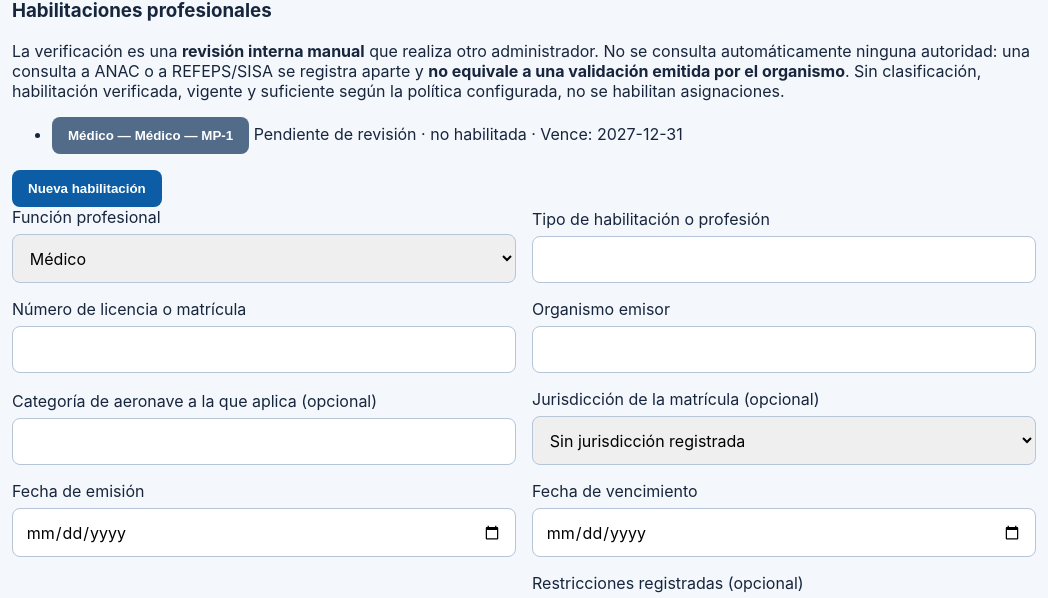
Test: a rejected decision shows the backend error and never announces success
Click the button "Médico — Médico — MP-1". click: coordinates (151, 135)
box: [52,117,249,154]
(page scrolled)
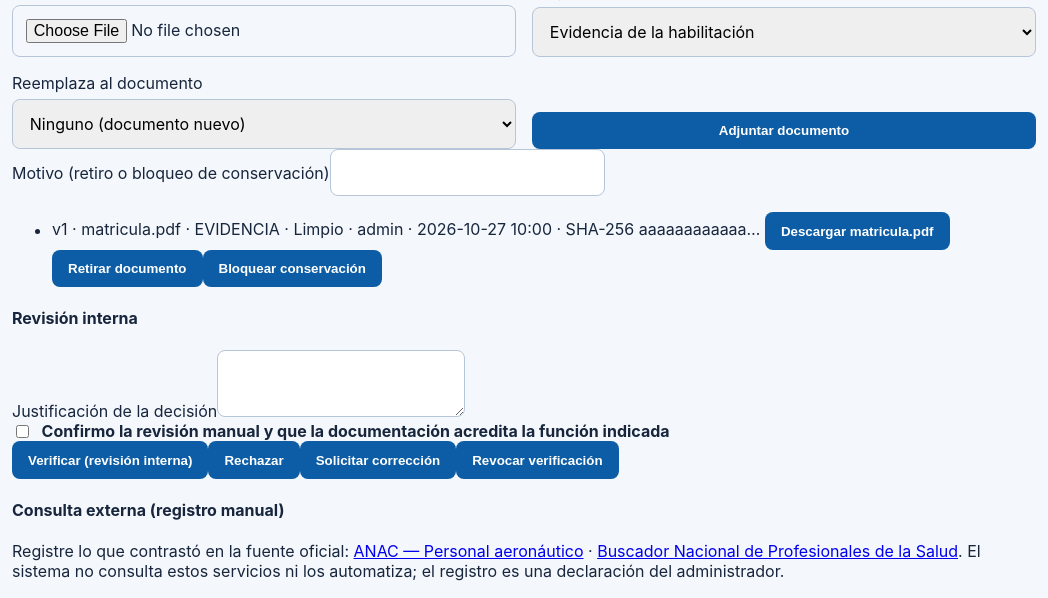
Type "ok" into the text box labelled "Justificación de la decisión". click: coordinates (341, 384)
box: [217,350,465,417]
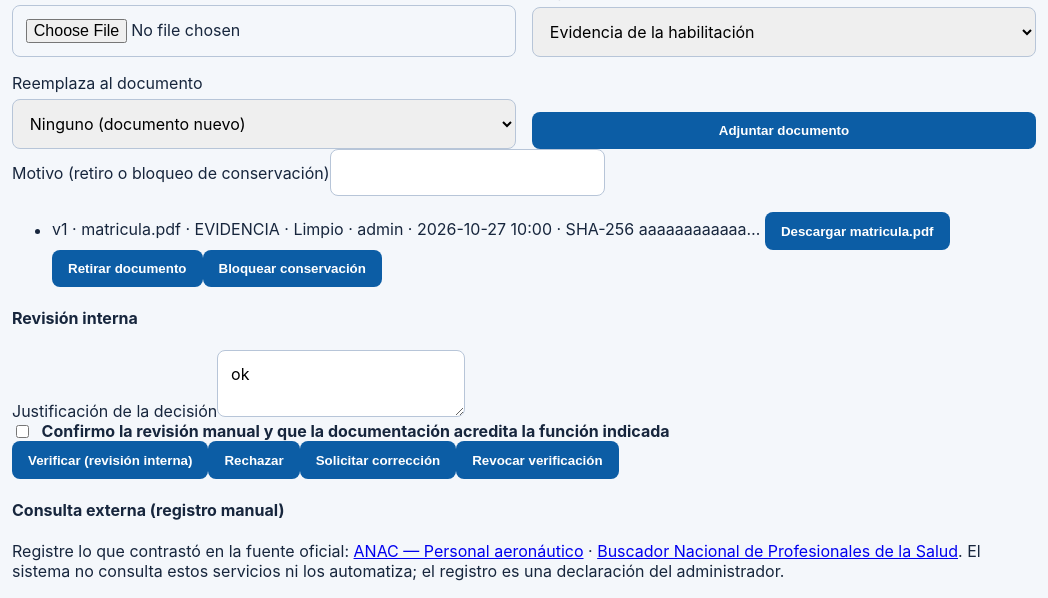
Click the checkbox labelled "Confirmo la revisión manual". click: coordinates (22, 431)
box: [16,425,29,438]
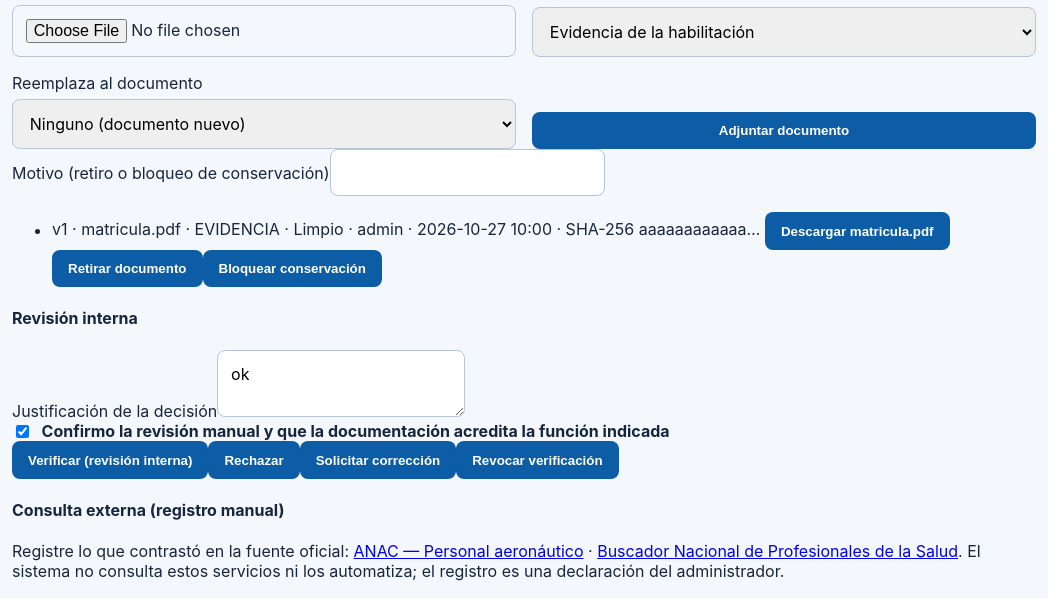
Click the button "Verificar (revisión interna)". click: coordinates (110, 460)
box: [12,441,208,479]
(page scrolled)
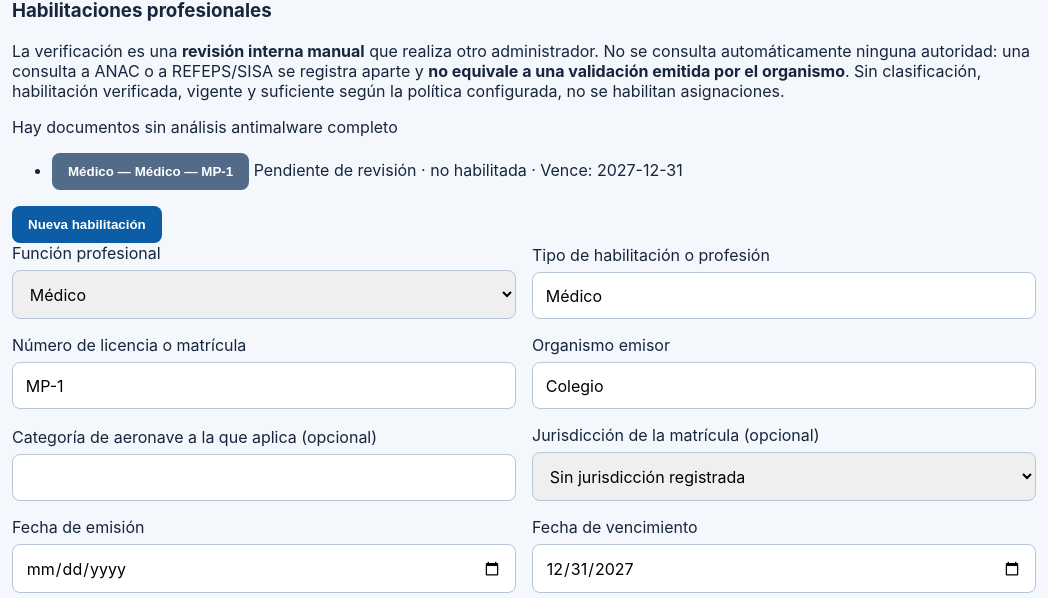
Now the message reads "Hay documentos sin análisis antimalware completo", box [12,117,398,137]
